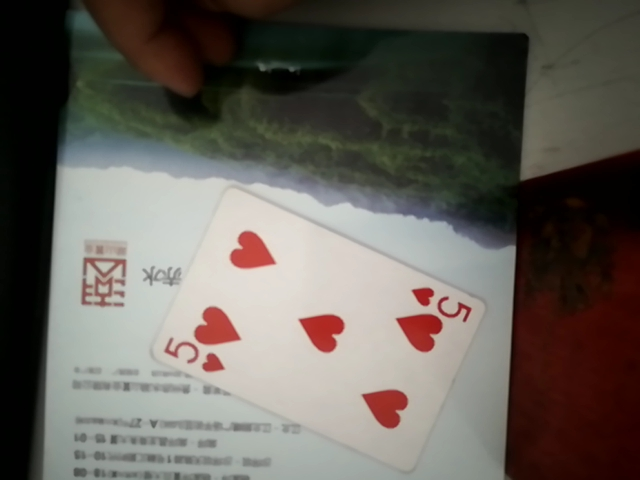hx 5: (117, 175, 493, 477)
